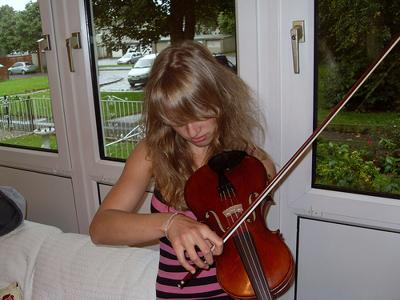person: (89, 44, 278, 300)
